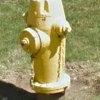Hydrant: (17, 0, 83, 100)
